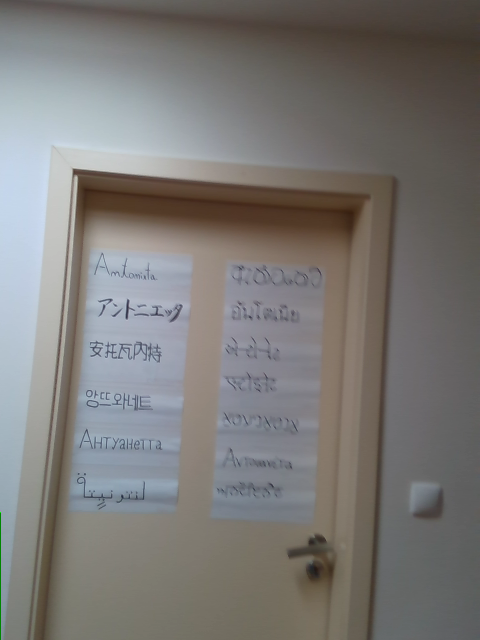closed: (9, 144, 393, 639)
